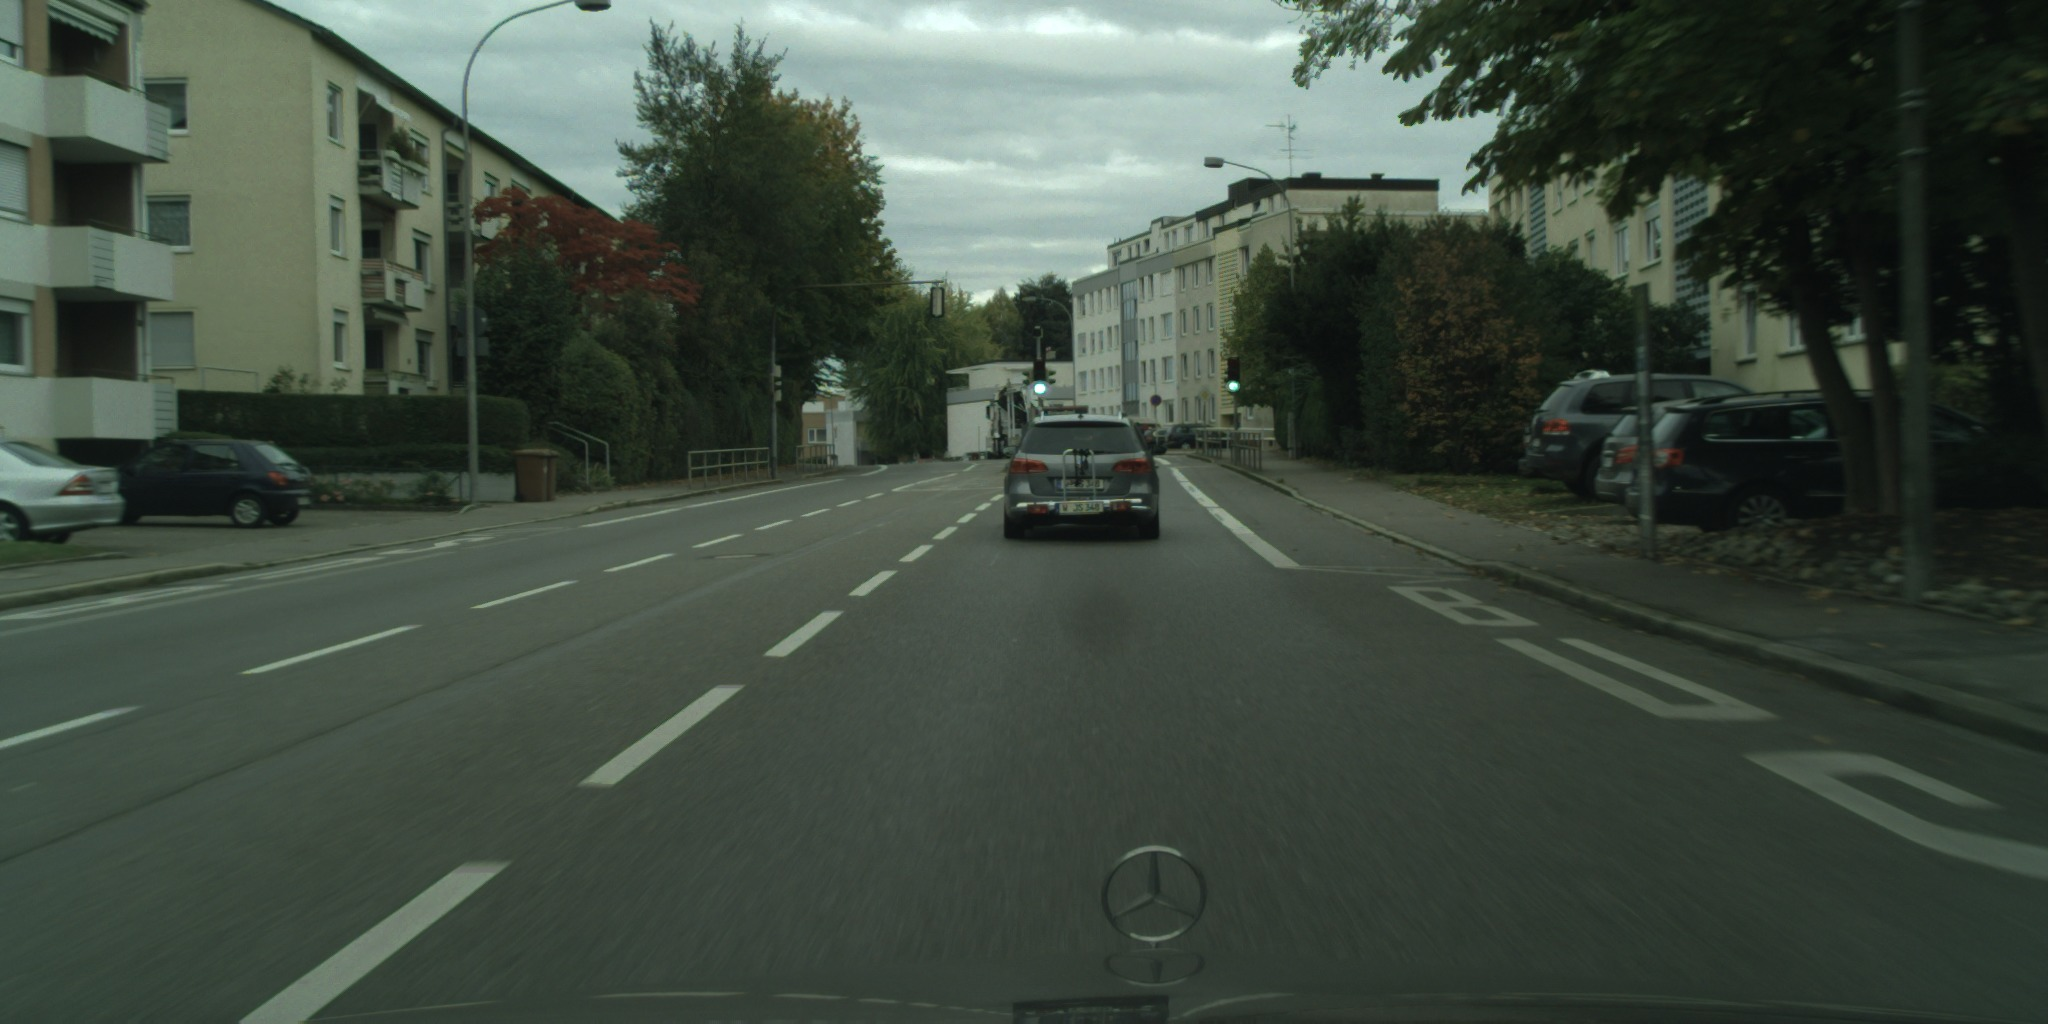car: (1625, 387, 2023, 539), (1523, 370, 1765, 505), (1000, 408, 1168, 541), (101, 438, 313, 529), (1593, 398, 1741, 504), (0, 438, 125, 555), (1164, 422, 1230, 451), (1140, 424, 1174, 452), (1130, 422, 1164, 447)
